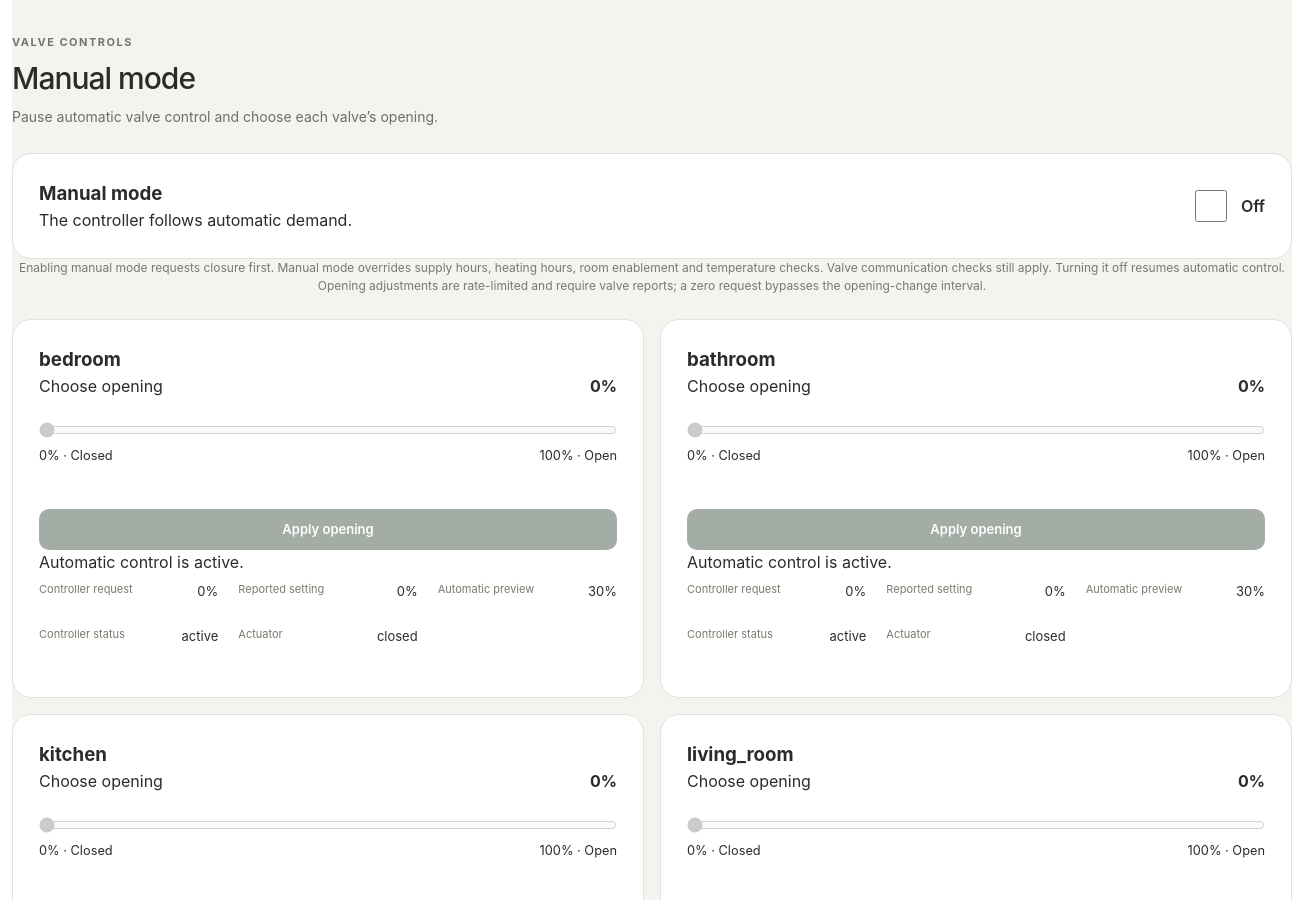
Test: reports failed submissions without changing the accepted mode
This screenshot has width=1292, height=900.
Click the switch at {"x": 1211, "y": 206}, box 1195,190 -> 1227,222
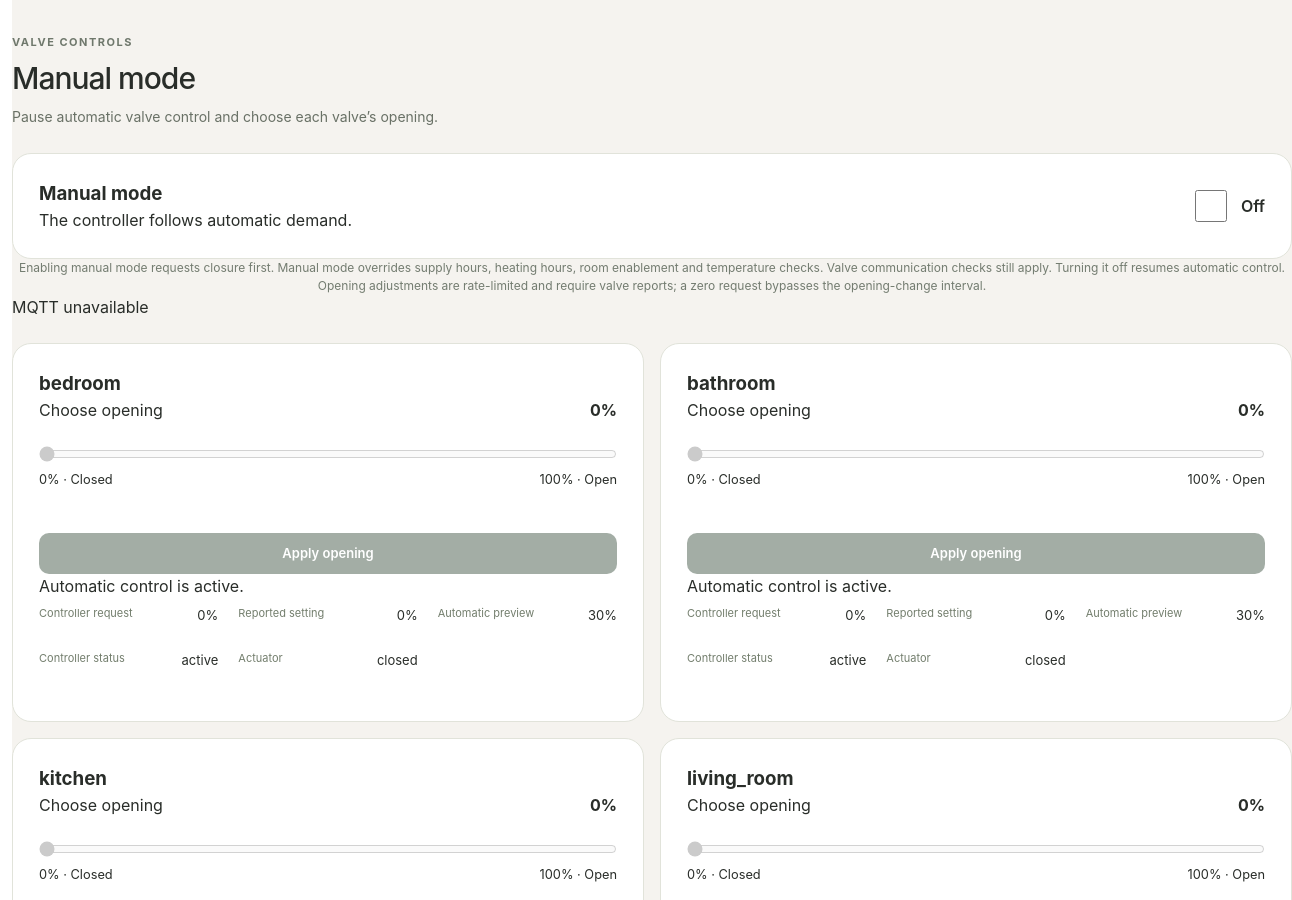
expect the message "MQTT unavailable" is shown: met, box 12,297 -> 149,317
